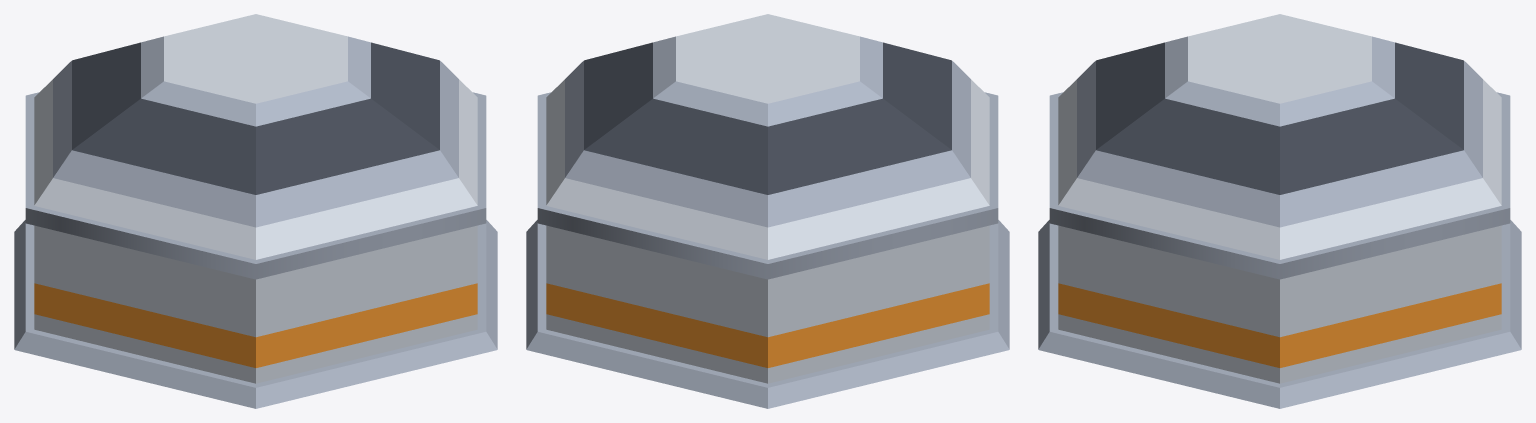
File: hangar_roundA.fbx
3 views of the same model, side by side, from view 1: azimuth 30°, elevation 25°; view 2: azimuth 150°, elevation 25°; view 3: azimuth 270°, elevation 25° (orthographic).
Parts seen in each view (by area): view 1: hangar_roundA; view 2: hangar_roundA; view 3: hangar_roundA.
Part boxes in pixels (x1=…): hangar_roundA: x1=14, y1=14, x2=497, y2=408; hangar_roundA: x1=526, y1=14, x2=1009, y2=408; hangar_roundA: x1=1038, y1=14, x2=1521, y2=408.
Size of the model in its own units: 32.71 by 15 by 28.33.
